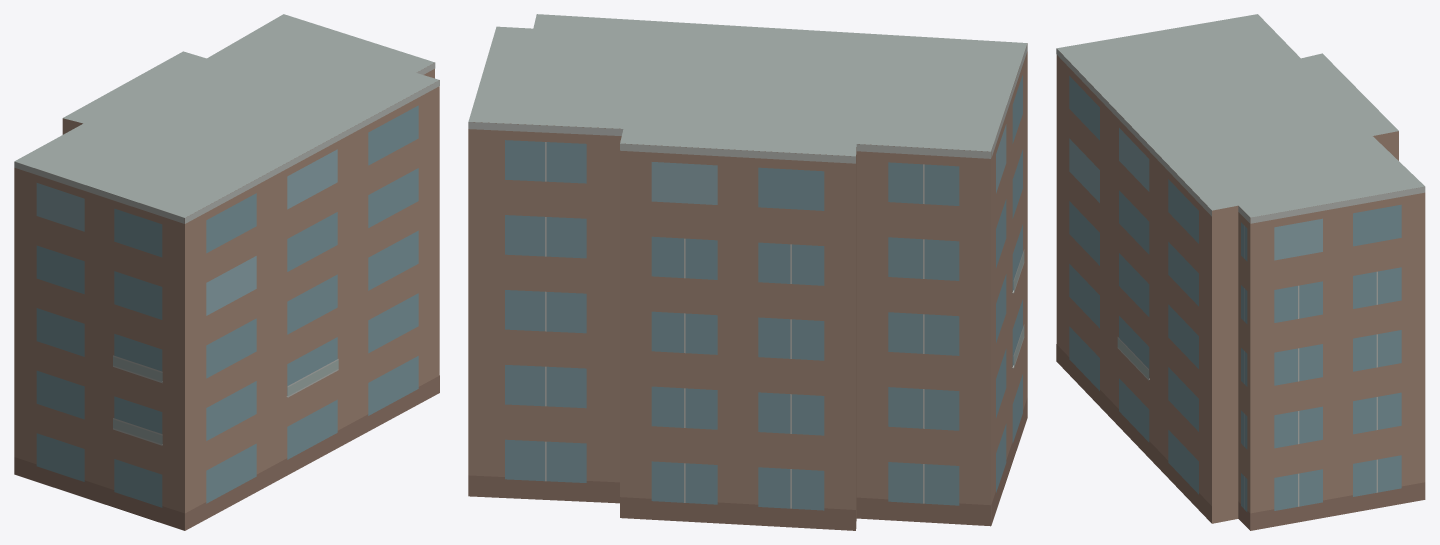
The model's file is survey-upis-32842533.glb.
3 views of the same model, side by side, from view 1: azimuth 30°, elevation 25°; view 2: azimuth 150°, elevation 25°; view 3: azimuth 270°, elevation 25° (orthographic). The views are drawn at different scales.
Parts seen in each view (by area): view 1: survey-upis-32842533.tmp; view 2: survey-upis-32842533.tmp; view 3: survey-upis-32842533.tmp.
Boxes of the visible parts, x1,y1,x2,y2 form: survey-upis-32842533.tmp: [14, 14, 439, 530]; survey-upis-32842533.tmp: [468, 14, 1027, 530]; survey-upis-32842533.tmp: [1056, 14, 1425, 530].
Bounding box in the file's own units: 17.44 × 12.5 × 13.35.
